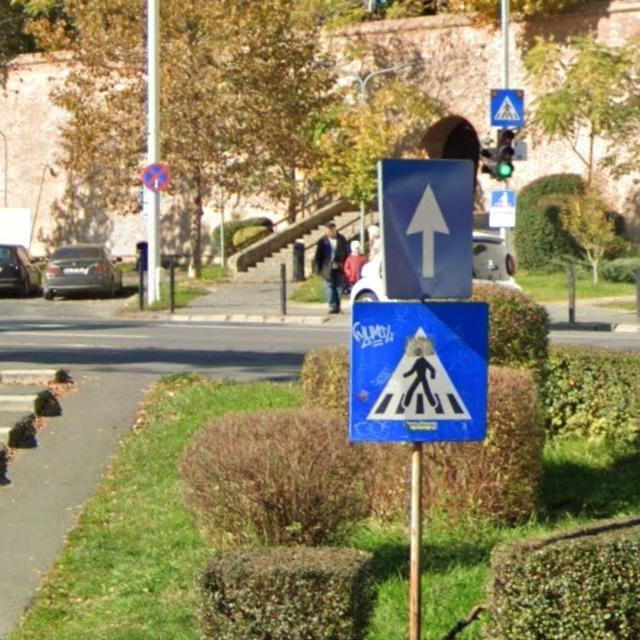forb_waiting: (141, 160, 170, 193)
info_crosswalk: (352, 301, 490, 439), (489, 86, 527, 130)
